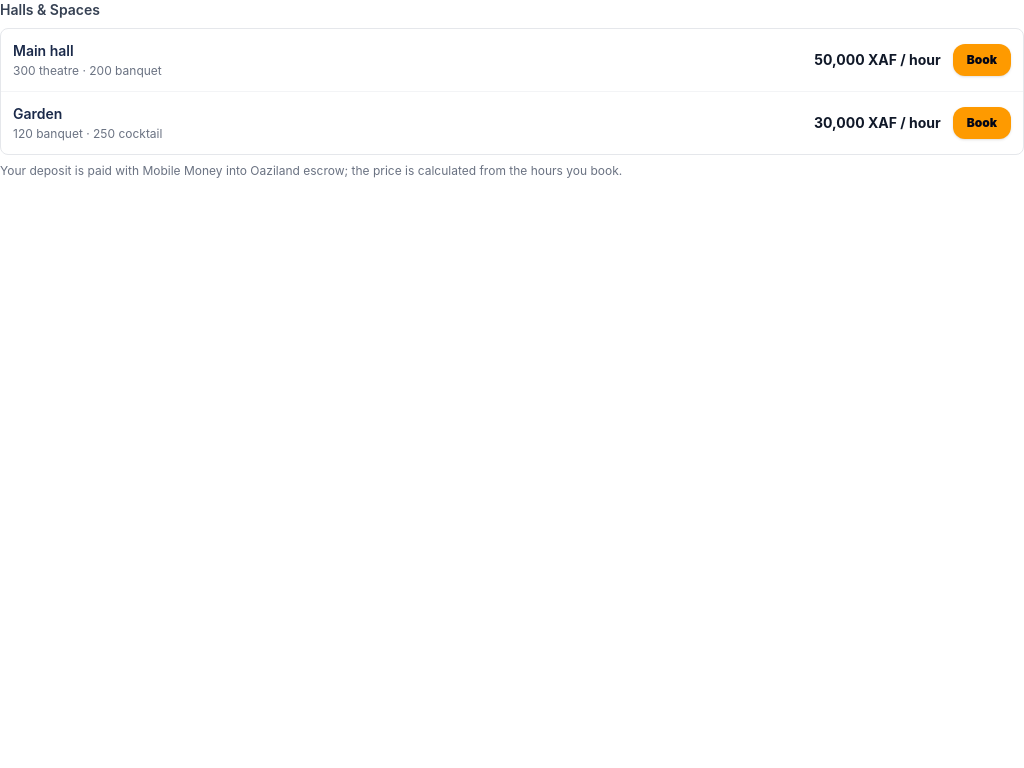
Test: VenueSpacesBooking › lists each space with its hourly price and books the space chosen
The image size is (1024, 768).
expect the text "30,000 XAF / hour" is shown: met, box left=814, top=113, right=941, bottom=133
Click the button "Book" next to "30,000 XAF / hour". click: click(982, 123)
box: left=953, top=107, right=1011, bottom=139
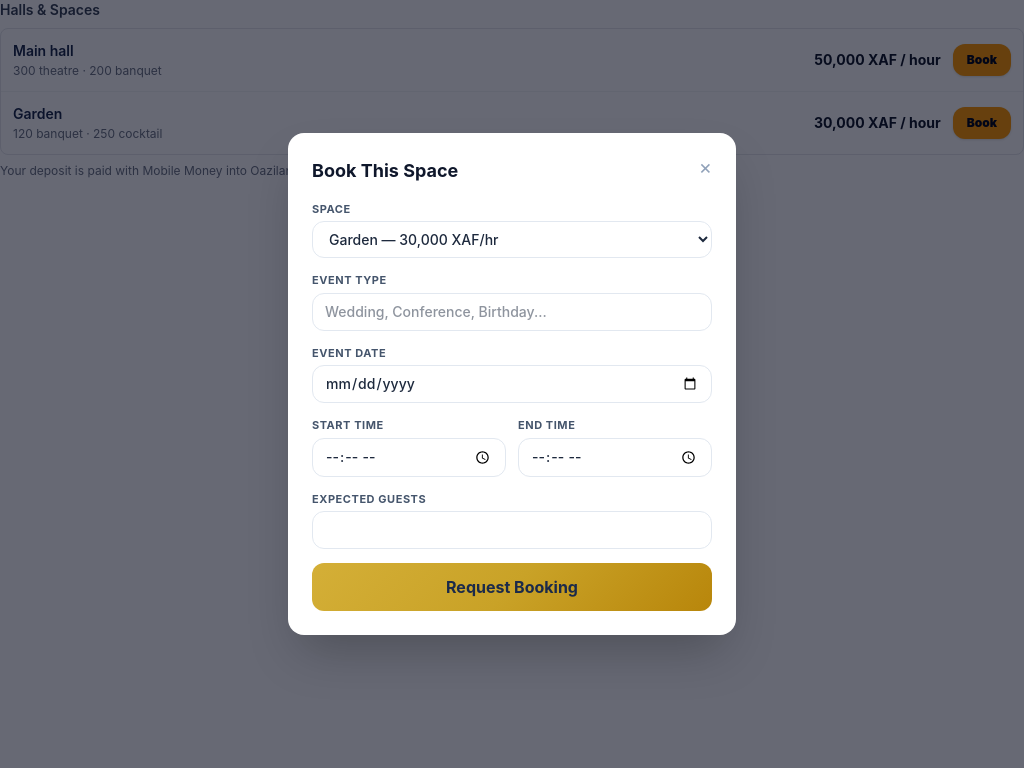
expect the dropdown shows "Garden — 30,000 XAF/hr": met, box left=312, top=221, right=712, bottom=258
